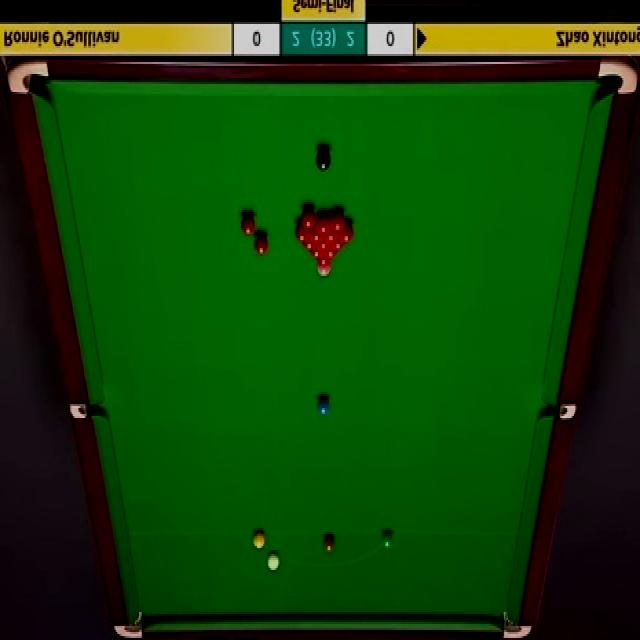black-ball: (315, 147, 331, 174)
blue-ball: (318, 394, 331, 416)
brown-ball: (323, 534, 335, 551)
green-ball: (382, 530, 393, 550)
pink-ball: (316, 264, 332, 280)
red-ball: (252, 232, 272, 258), (315, 212, 331, 236), (300, 205, 316, 228), (331, 212, 347, 234), (338, 224, 355, 244), (294, 223, 310, 244), (240, 215, 255, 237), (309, 228, 324, 243), (325, 225, 338, 242), (322, 248, 340, 258), (331, 240, 347, 251), (315, 258, 332, 268), (316, 240, 332, 250), (307, 249, 323, 258), (303, 239, 316, 250)
white-ball: (265, 551, 280, 575)
yellow-ball: (252, 530, 267, 551)
